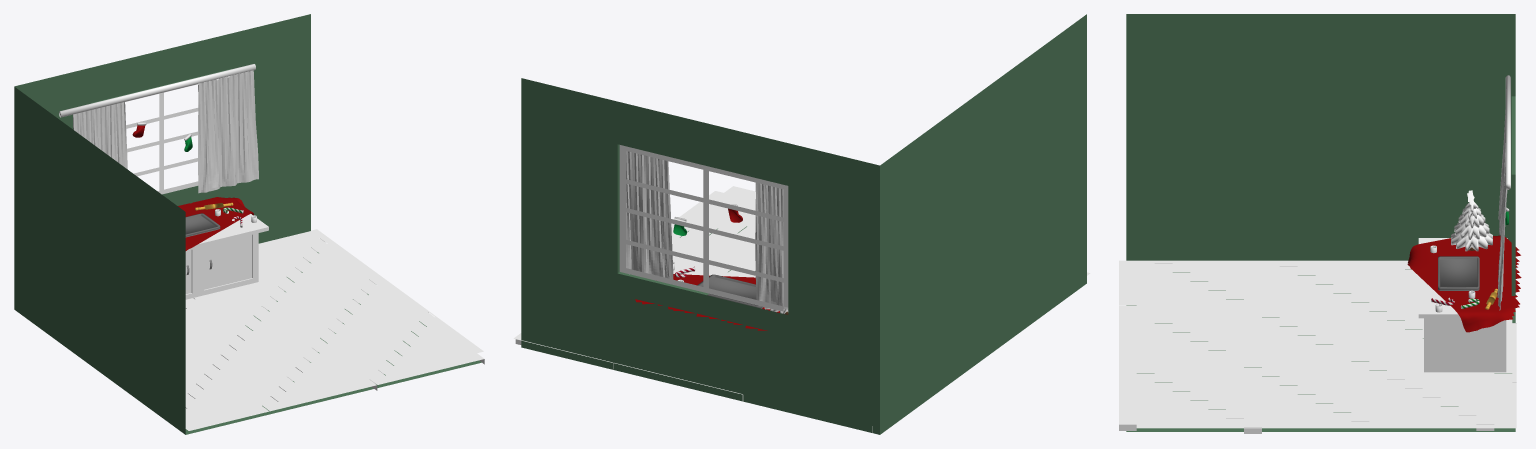
3 renders of one model, left to right at view 1: azimuth 30°, elevation 25°; view 2: azimuth 150°, elevation 25°; view 3: azimuth 270°, elevation 25°, orthographic. The views are drawn at different scales.
Parts seen in each view (by area): view 1: Cube.008, Cube.017, Plane.015, Cube.009, Plane.014, Plane, Cylinder.029, Cube.010, Cube.001, Cube.018, Plane.008; view 2: Cube.008, Cube.017, Plane.015, Cube.018, Plane.014, Cube.001, Plane.008, Plane; view 3: Cube.008, Cube.017, Plane, Cube.009, Plane.008, Cube.010, Cylinder.029, Plane.015, Cylinder.005, Cylinder.006, Plane.014.
Part boxes in pixels (left/top/right/bottom): Cube.008: left=14, top=14, right=481, bottom=434; Cube.017: left=185, top=229, right=484, bottom=430; Plane.015: left=198, top=70, right=258, bottom=193; Cube.009: left=185, top=233, right=258, bottom=299; Plane.014: left=73, top=102, right=127, bottom=169; Plane: left=178, top=197, right=253, bottom=250; Cylinder.029: left=59, top=64, right=255, bottom=117; Cube.010: left=187, top=214, right=268, bottom=250; Cube.001: left=126, top=108, right=198, bottom=176; Cube.018: left=125, top=84, right=198, bottom=194; Plane.008: left=185, top=213, right=220, bottom=237; Cube.008: left=521, top=14, right=1086, bottom=434; Cube.017: left=513, top=186, right=1090, bottom=432; Plane.015: left=626, top=151, right=673, bottom=279; Cube.018: left=619, top=145, right=788, bottom=311; Plane.014: left=755, top=182, right=788, bottom=309; Cube.001: left=626, top=179, right=783, bottom=282; Plane.008: left=697, top=274, right=763, bottom=308; Plane: left=635, top=274, right=779, bottom=330; Cube.008: left=1126, top=14, right=1515, bottom=431; Cube.017: left=1119, top=260, right=1516, bottom=433; Plane: left=1407, top=235, right=1521, bottom=332; Cube.009: left=1424, top=318, right=1506, bottom=372; Plane.008: left=1438, top=256, right=1479, bottom=290; Cube.010: left=1418, top=238, right=1507, bottom=318; Cylinder.029: left=1505, top=75, right=1510, bottom=189; Plane.015: left=1497, top=158, right=1507, bottom=310; Cylinder.005: left=1451, top=233, right=1492, bottom=251; Cylinder.006: left=1454, top=223, right=1489, bottom=239; Plane.014: left=1498, top=110, right=1505, bottom=234.
Size of the model in its own units: 120 by 84.47 by 122.
